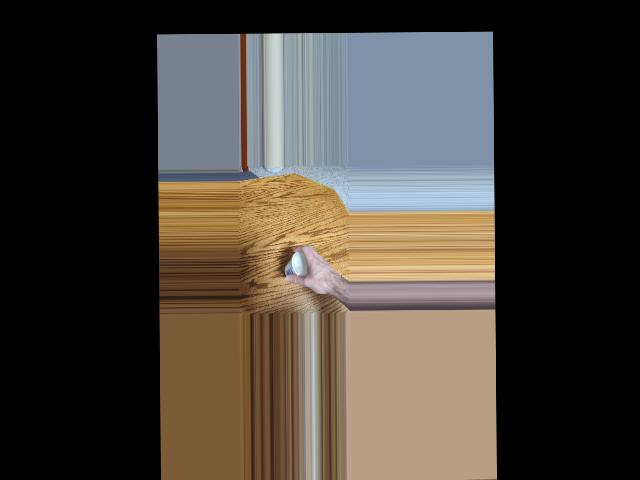cotage: (285, 252, 310, 284)
